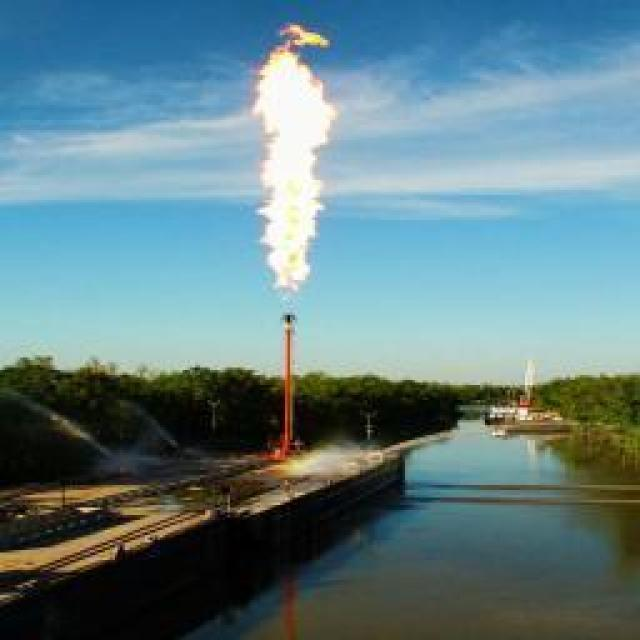fire: (248, 25, 338, 301)
